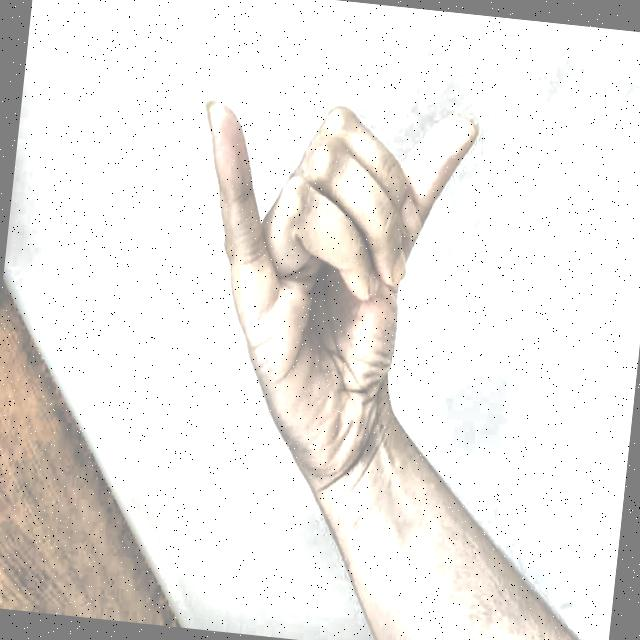Oi: (144, 42, 511, 523)
